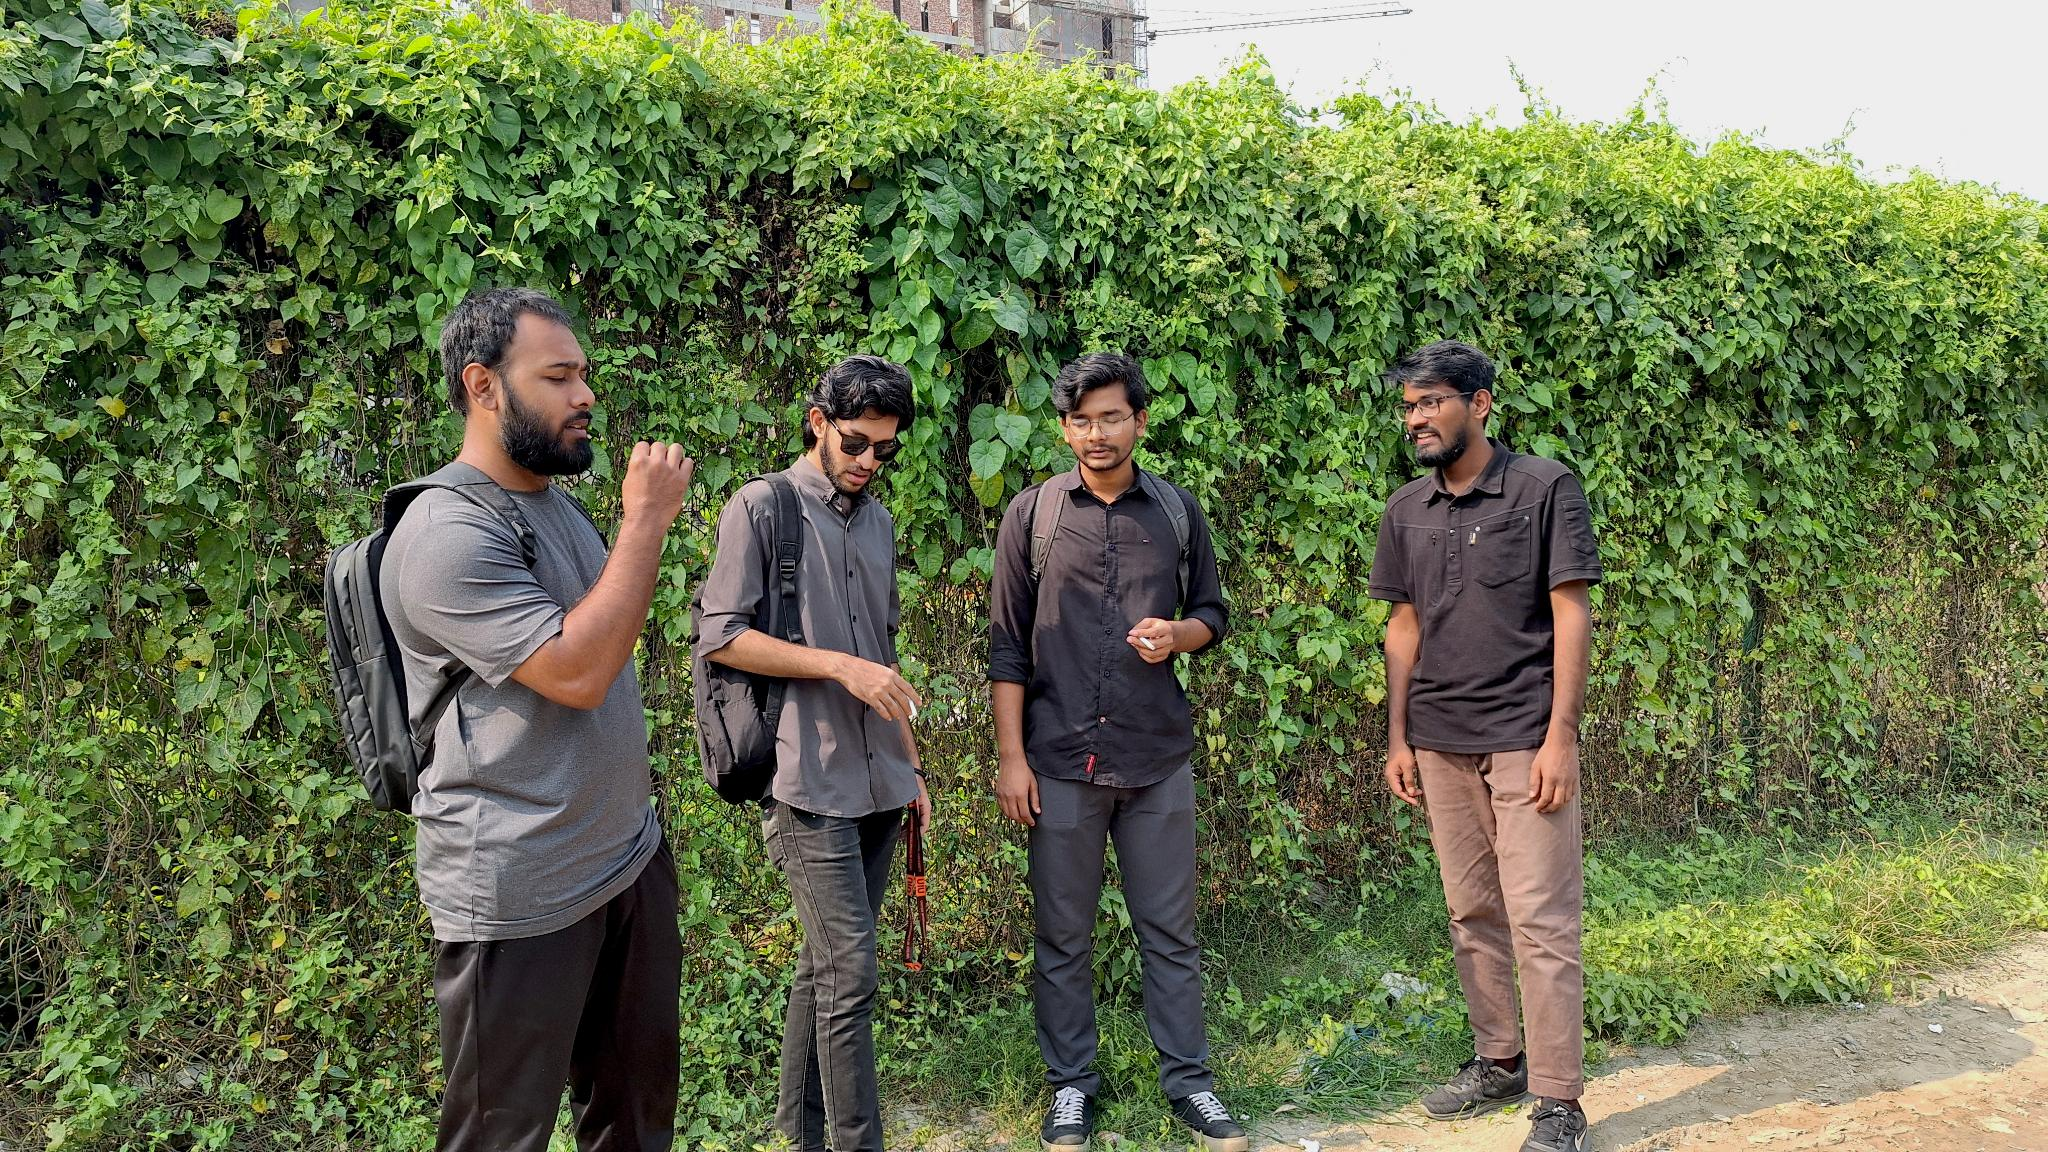cigarette: (1138, 636, 1156, 653), (906, 695, 919, 719)
nonSmoker: (322, 288, 693, 1152), (1366, 339, 1604, 1152)
smoker: (987, 353, 1248, 1152), (691, 354, 931, 1152)
